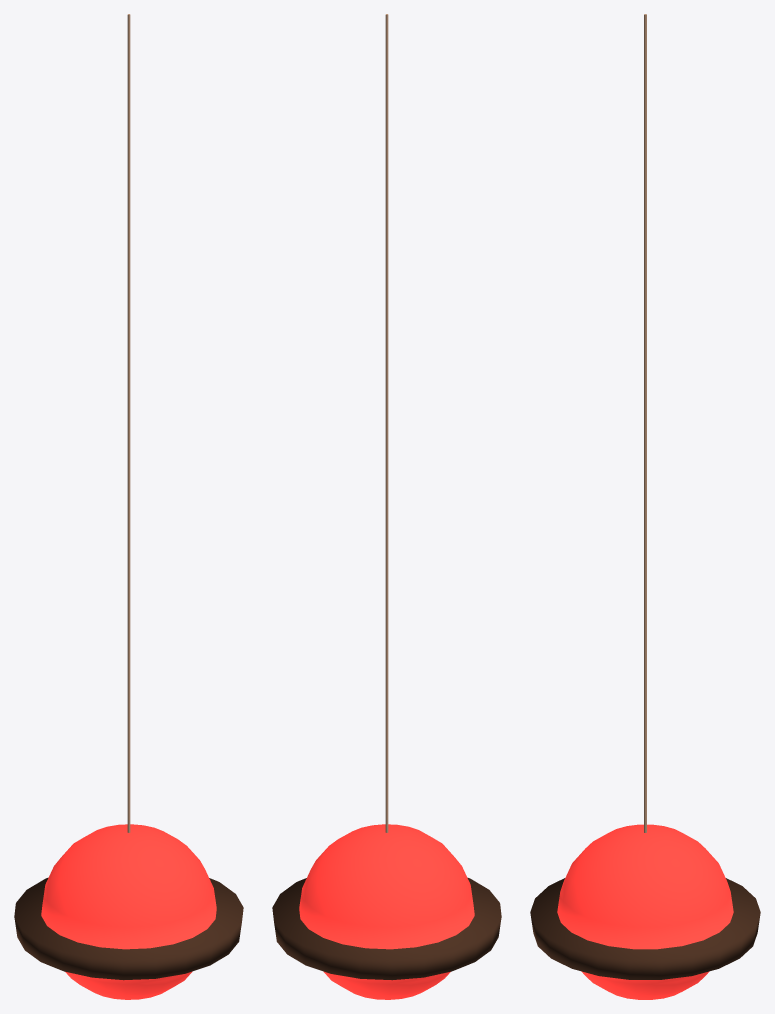
The model's file is Luce 1 Rossa .fbx.
3 renders of one model, left to right at view 1: azimuth 30°, elevation 25°; view 2: azimuth 150°, elevation 25°; view 3: azimuth 270°, elevation 25°, orthographic.
Visible parts, largest first — view 1: Cylinder.381; view 2: Cylinder.381; view 3: Cylinder.381.
Part boxes in pixels (box(x1,y1,x2,y2)): Cylinder.381: box(14, 14, 243, 999); Cylinder.381: box(272, 14, 501, 999); Cylinder.381: box(530, 14, 760, 999).
Bounding box in the file's own units: 49.96 × 236 × 50.47.
